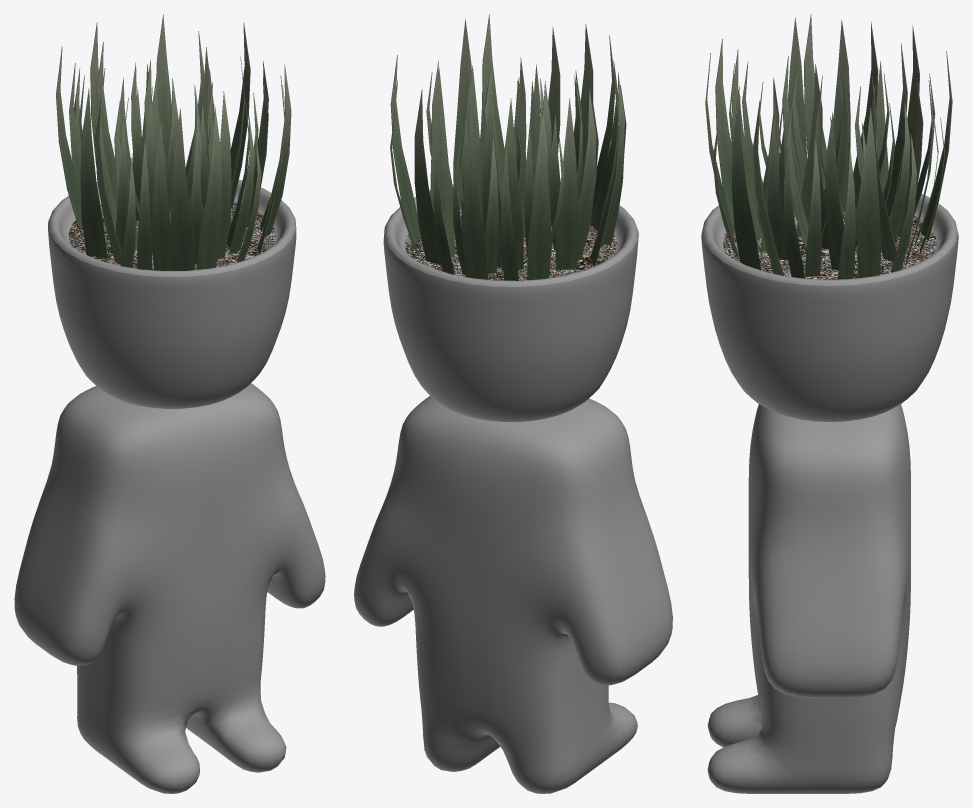
File: Decor_Pot01.FBX
The picture shows the model from 3 angles, left to right: view 1: azimuth 30°, elevation 25°; view 2: azimuth 150°, elevation 25°; view 3: azimuth 270°, elevation 25°; orthographic projection. The views are drawn at different scales.
Parts seen in each view (by area): view 1: Decor_Pot01A, Grass1, Decor_Pot1B; view 2: Decor_Pot01A, Grass1, Decor_Pot1B; view 3: Decor_Pot01A, Grass1, Decor_Pot1B.
Boxes of the visible parts, x1=… form: Decor_Pot01A: x1=14, y1=383, x2=325, y2=793; Grass1: x1=56, y1=14, x2=291, y2=270; Decor_Pot1B: x1=48, y1=179, x2=296, y2=408; Decor_Pot01A: x1=354, y1=396, x2=672, y2=793; Grass1: x1=390, y1=14, x2=626, y2=280; Decor_Pot1B: x1=383, y1=184, x2=638, y2=422; Decor_Pot01A: x1=707, y1=404, x2=910, y2=793; Grass1: x1=705, y1=14, x2=952, y2=279; Decor_Pot1B: x1=701, y1=194, x2=958, y2=421.
Bounding box in the file's own units: 796 × 1951 × 640.
